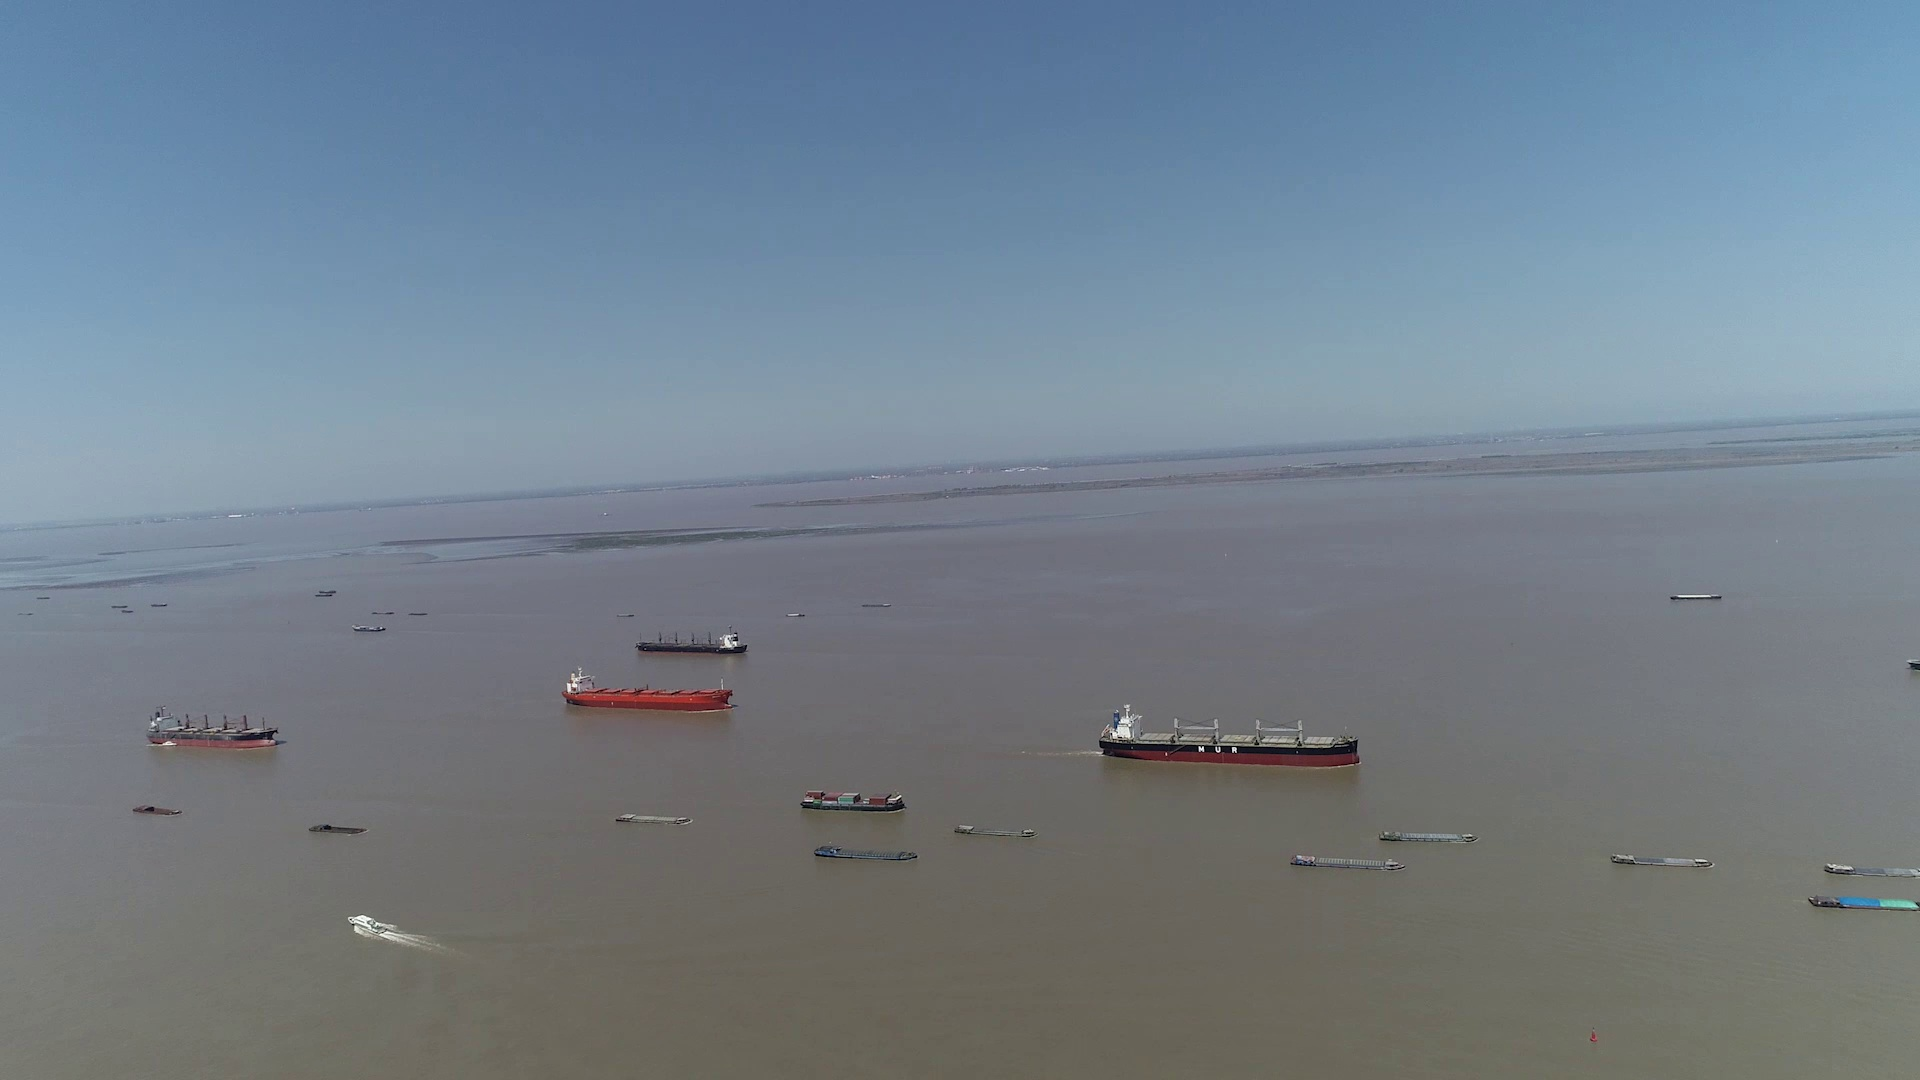ship: (1098, 702, 1360, 769), (562, 667, 733, 712), (146, 703, 278, 750), (636, 626, 748, 655), (799, 789, 906, 812), (1804, 893, 1920, 913), (1290, 852, 1404, 872), (811, 845, 919, 861), (1611, 851, 1712, 866), (1825, 862, 1917, 880), (1378, 827, 1474, 843), (953, 822, 1038, 837), (351, 913, 397, 938), (611, 810, 688, 824), (309, 824, 367, 835), (131, 804, 178, 815), (1669, 592, 1720, 601), (352, 622, 386, 632)
